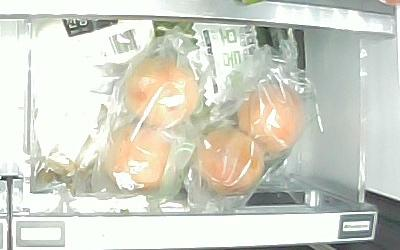peach_vinyl: (236, 81, 305, 160), (123, 57, 200, 125), (105, 126, 178, 194), (195, 127, 265, 194)
